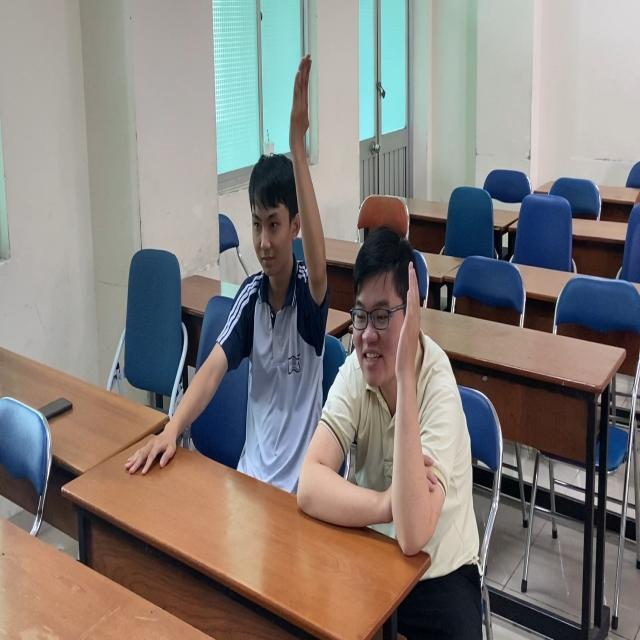raise_hand: (308, 229, 480, 551), (212, 46, 327, 503)
